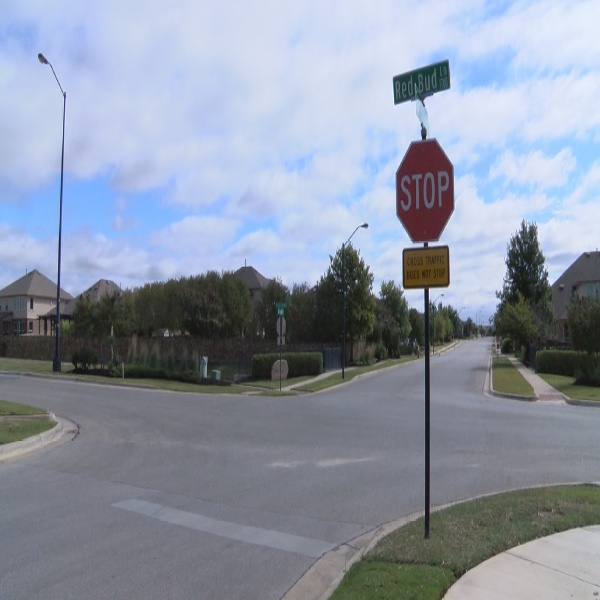stop: (397, 142, 457, 238)
